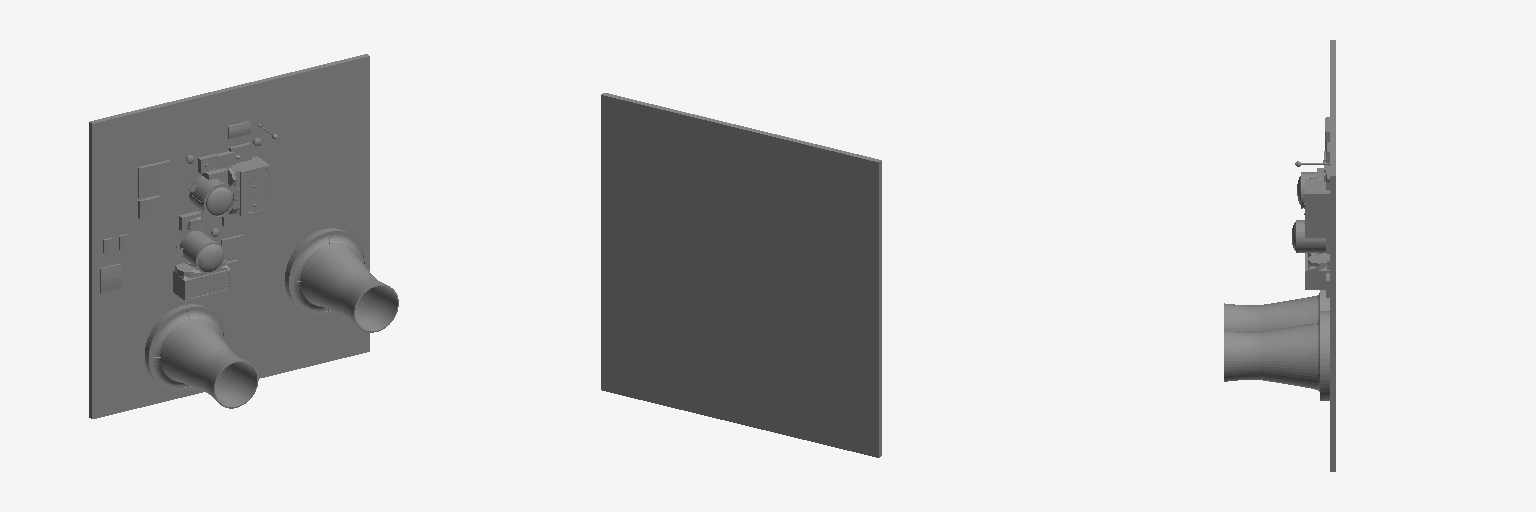
File: 10078_Nuclear_Power_Plant_v1_L3.obj
3 renders of one model, left to right at view 1: azimuth 30°, elevation 25°; view 2: azimuth 150°, elevation 25°; view 3: azimuth 270°, elevation 25°, orthographic.
Visible parts, largest first — view 1: 10078_Nuclear_Power_Plant; view 2: 10078_Nuclear_Power_Plant; view 3: 10078_Nuclear_Power_Plant.
Part boxes in pixels (left/top/right/bottom): 10078_Nuclear_Power_Plant: left=89, top=54, right=398, bottom=418; 10078_Nuclear_Power_Plant: left=601, top=93, right=881, bottom=457; 10078_Nuclear_Power_Plant: left=1224, top=40, right=1335, bottom=471.
Size of the model in its own units: 450 by 457 by 157.